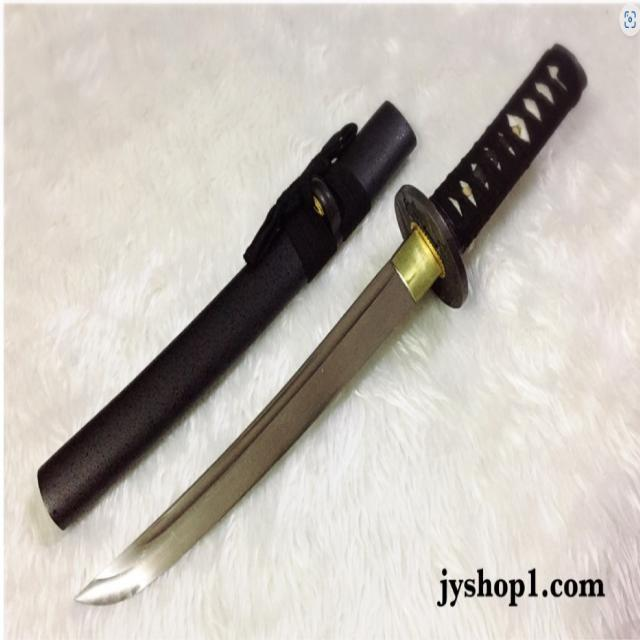short sword: (22, 43, 590, 626)
